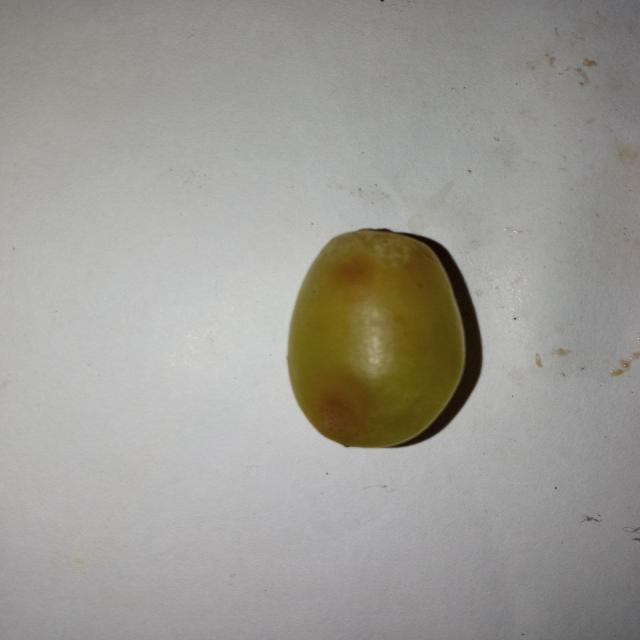rotten_grape: (290, 229, 467, 446)
